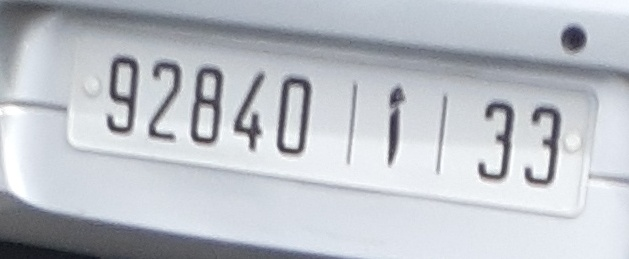0: (270, 70, 320, 159)
2: (143, 49, 186, 147)
3: (521, 100, 568, 193), (470, 93, 516, 184)
4: (227, 61, 272, 154)
8: (185, 56, 230, 149)
9: (100, 47, 141, 142)
a: (379, 73, 414, 175)
